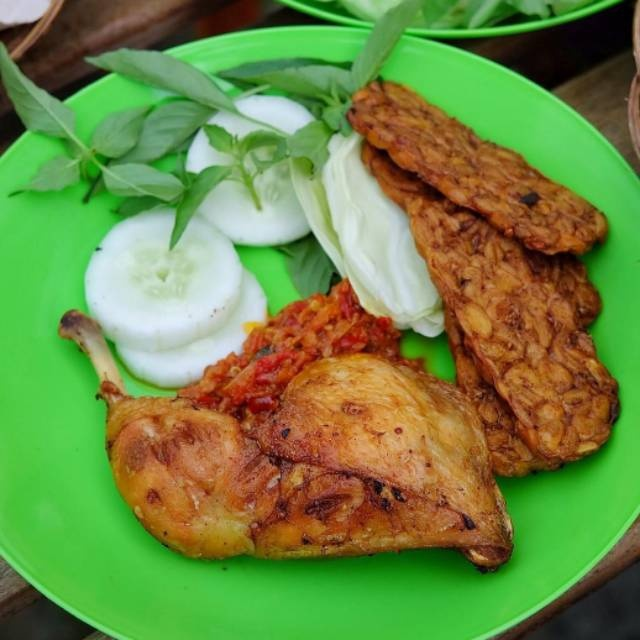ayam_goreng: (23, 313, 516, 578)
